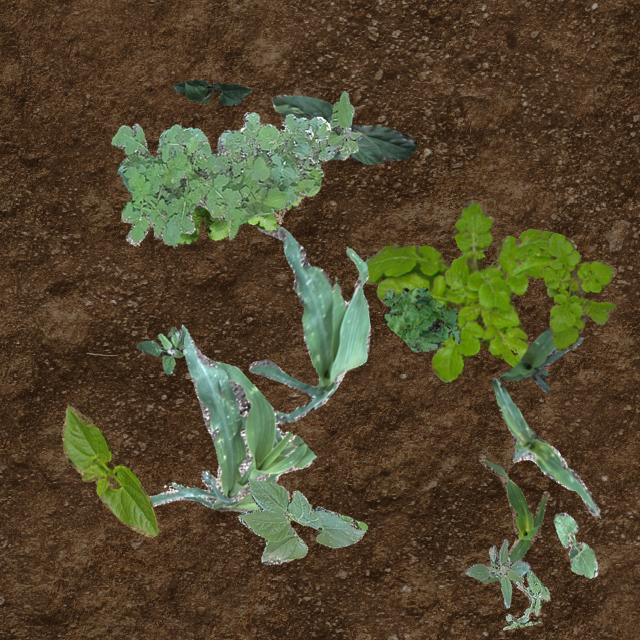crop: (147, 324, 316, 511), (248, 224, 370, 423), (491, 376, 598, 516), (60, 404, 156, 536), (236, 476, 366, 564), (270, 94, 416, 164), (478, 452, 548, 582), (500, 326, 582, 392), (552, 512, 596, 576), (172, 78, 250, 105)
weed: (362, 198, 574, 380), (110, 112, 330, 246), (540, 232, 616, 350), (174, 194, 304, 244), (382, 286, 459, 351), (464, 538, 530, 606), (310, 90, 360, 168), (502, 568, 548, 628), (136, 326, 183, 374)
